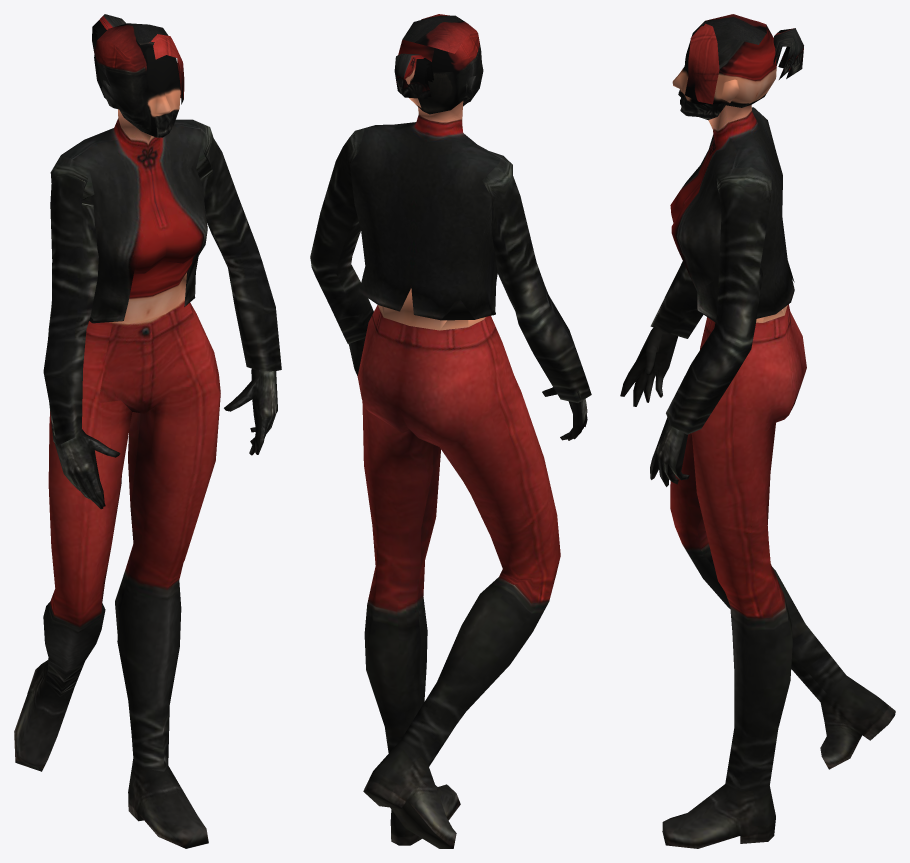
3 views of the same model, side by side, from view 1: azimuth 30°, elevation 25°; view 2: azimuth 150°, elevation 25°; view 3: azimuth 270°, elevation 25° (orthographic).
Visible parts, largest first — view 1: SketchUp (×5); view 2: SketchUp (×4); view 3: SketchUp (×6).
Boxes of the visible parts, left/top/right/bottom form: SketchUp (×5): left=14, top=23, right=281, bottom=848; SketchUp (×4): left=310, top=15, right=591, bottom=848; SketchUp (×6): left=620, top=14, right=895, bottom=848.
Size of the model in its own units: 67.31 by 67.18 by 218.
2 materials, 2 textured.
